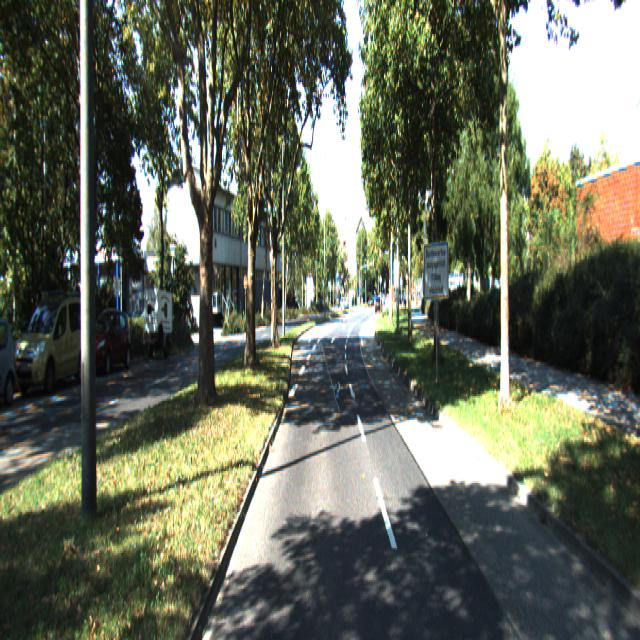Car: (14, 293, 90, 397), (83, 310, 131, 380), (143, 286, 174, 364), (0, 317, 21, 412)
